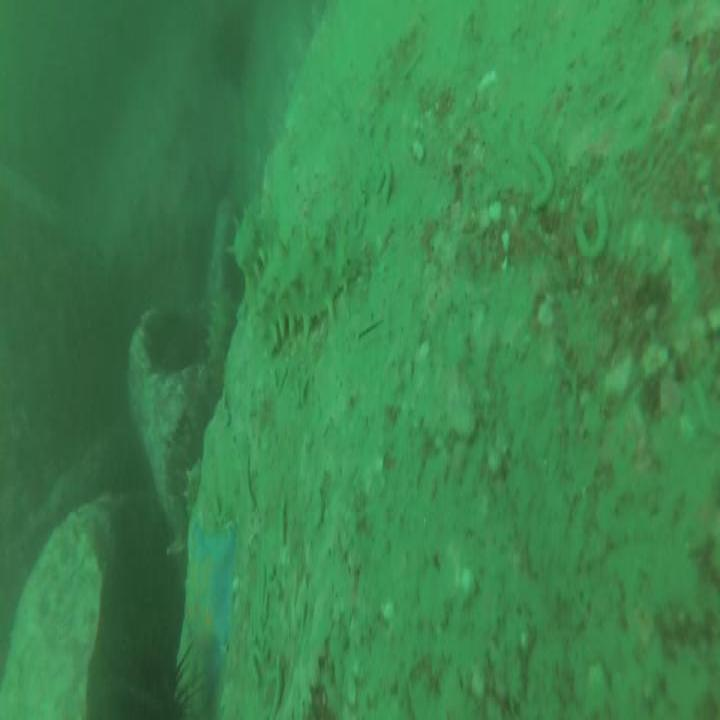echinus: (93, 647, 196, 720), (137, 300, 211, 378), (206, 14, 252, 96)
holothurian: (253, 213, 370, 352), (229, 192, 269, 279), (204, 286, 237, 380)
starfish: (178, 519, 240, 683)
